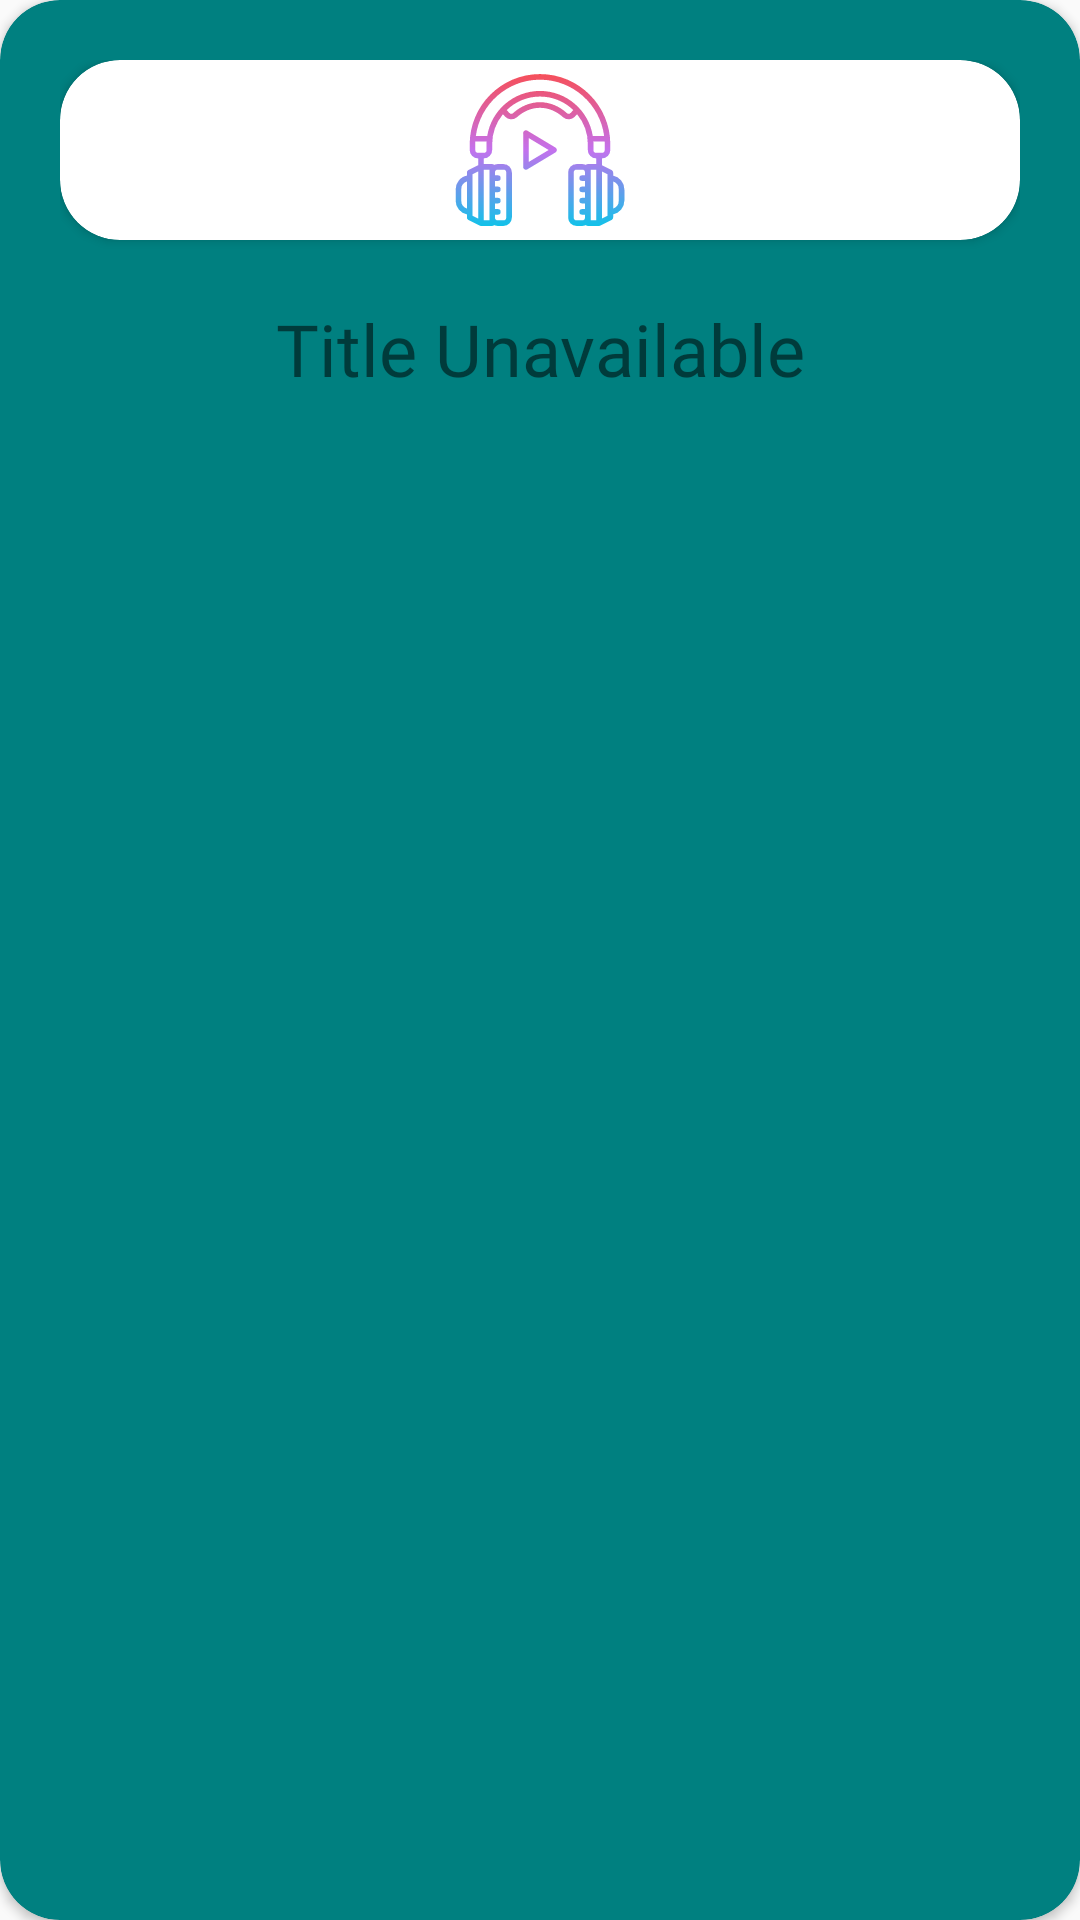

Icons on this 1080 x 1920 Android screen, each with its box as detection(x1, y1, x2, y2):
headphone: detection(455, 74, 625, 226)
